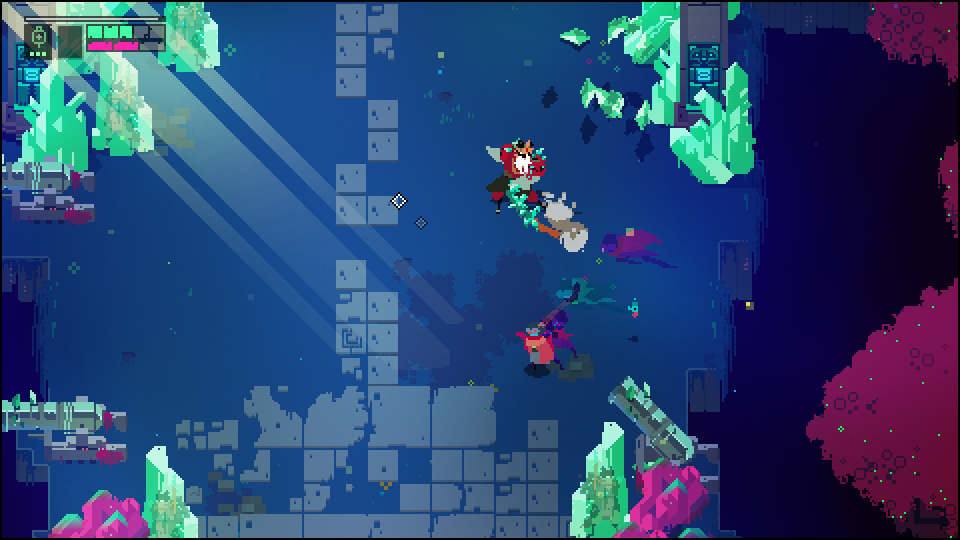hanged_man: (482, 132, 556, 239)
player: (524, 320, 557, 380)
